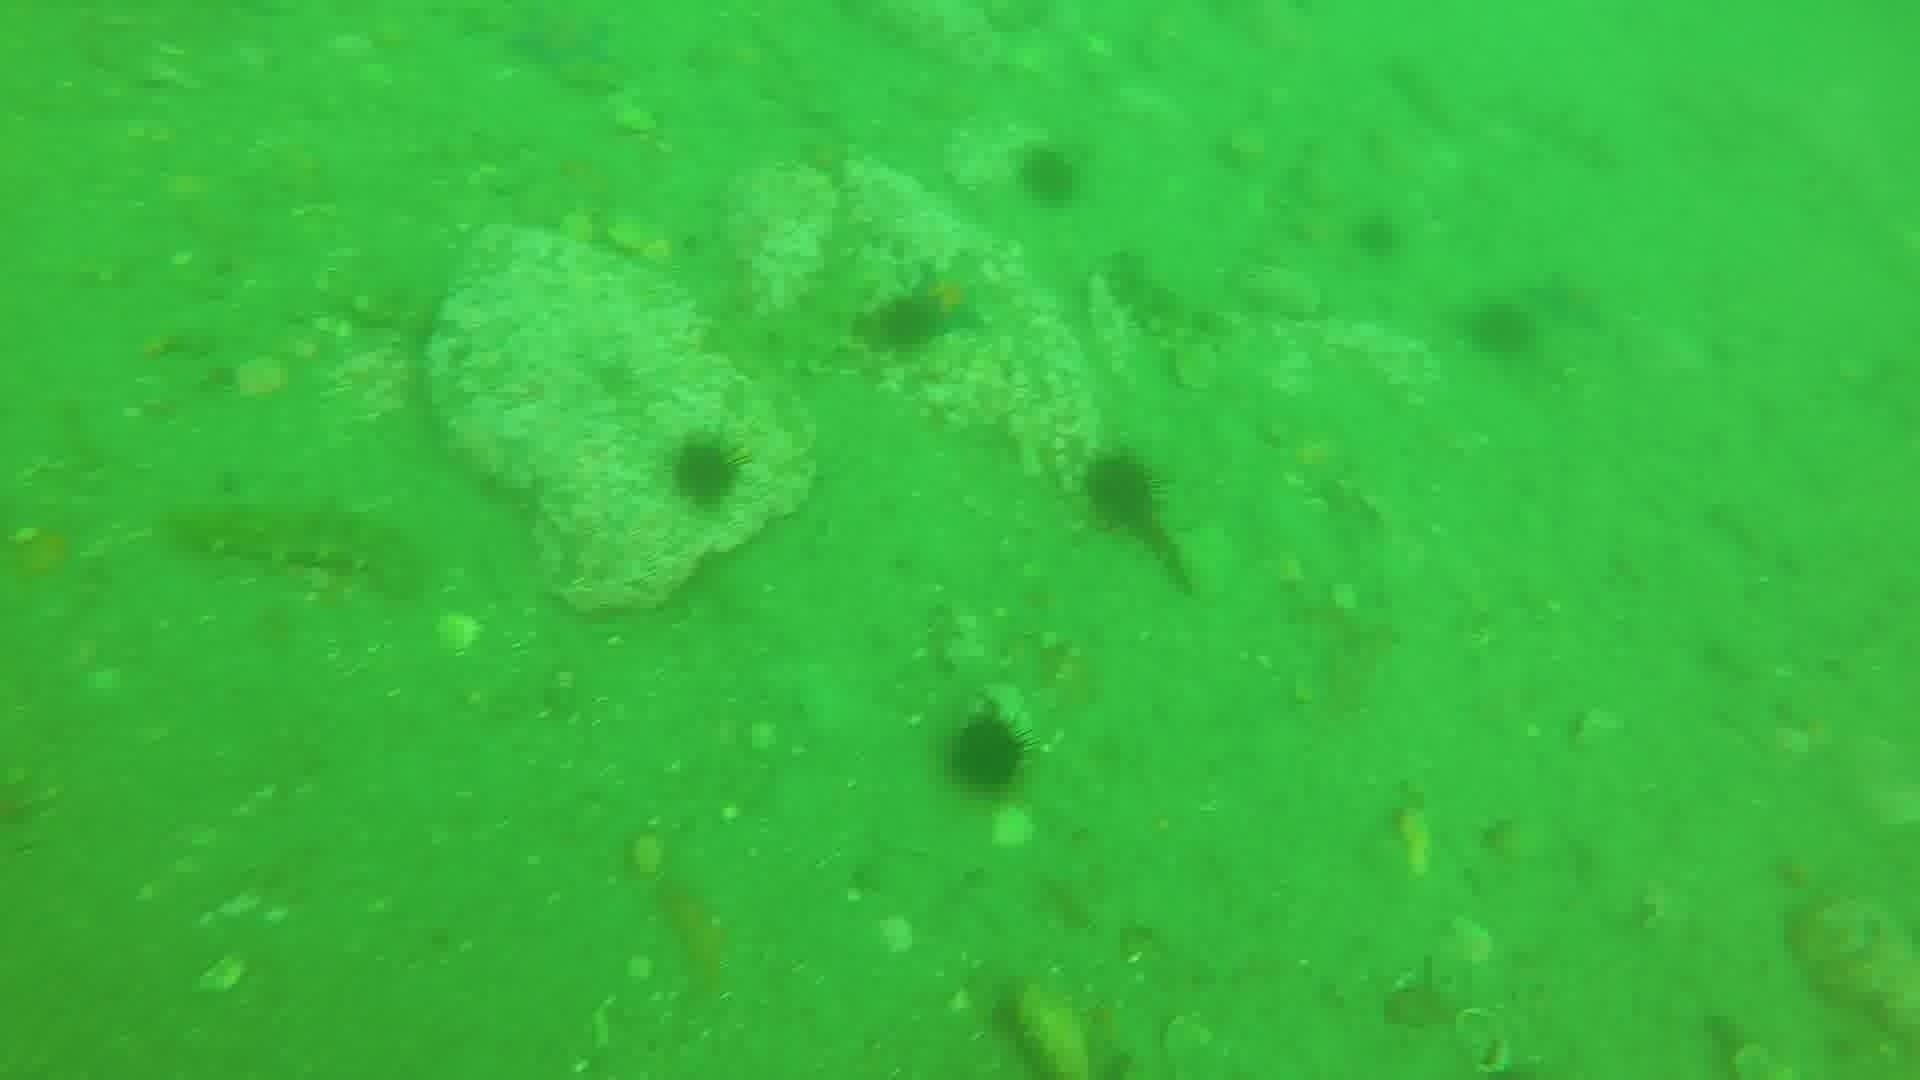echinus: (939, 709, 1035, 800), (1075, 448, 1166, 535), (662, 433, 750, 516), (866, 287, 947, 360), (1462, 295, 1542, 363), (1011, 142, 1088, 211), (1346, 208, 1408, 264)
holothurian: (165, 489, 429, 588), (707, 253, 881, 382), (1097, 247, 1228, 378)
starfish: (502, 5, 625, 76), (905, 258, 996, 339), (1528, 268, 1611, 338)
